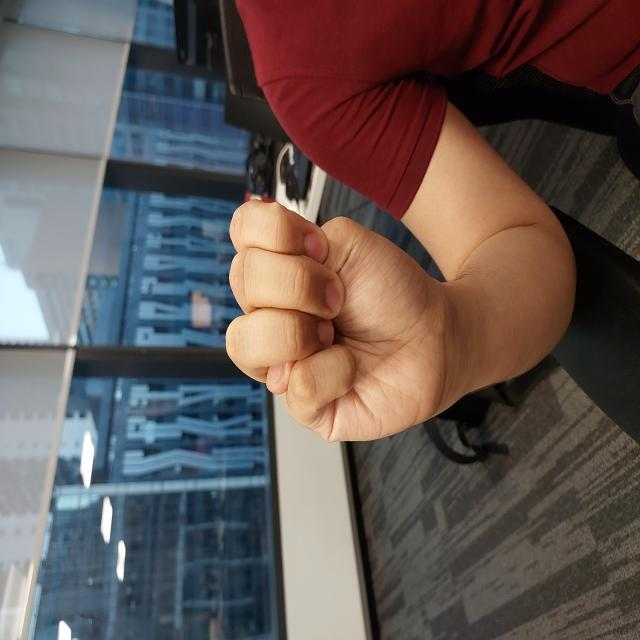M: (196, 222, 444, 459)
